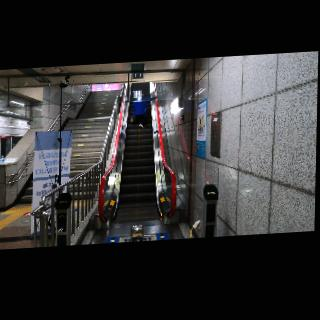anomaly: (126, 94, 158, 129)
